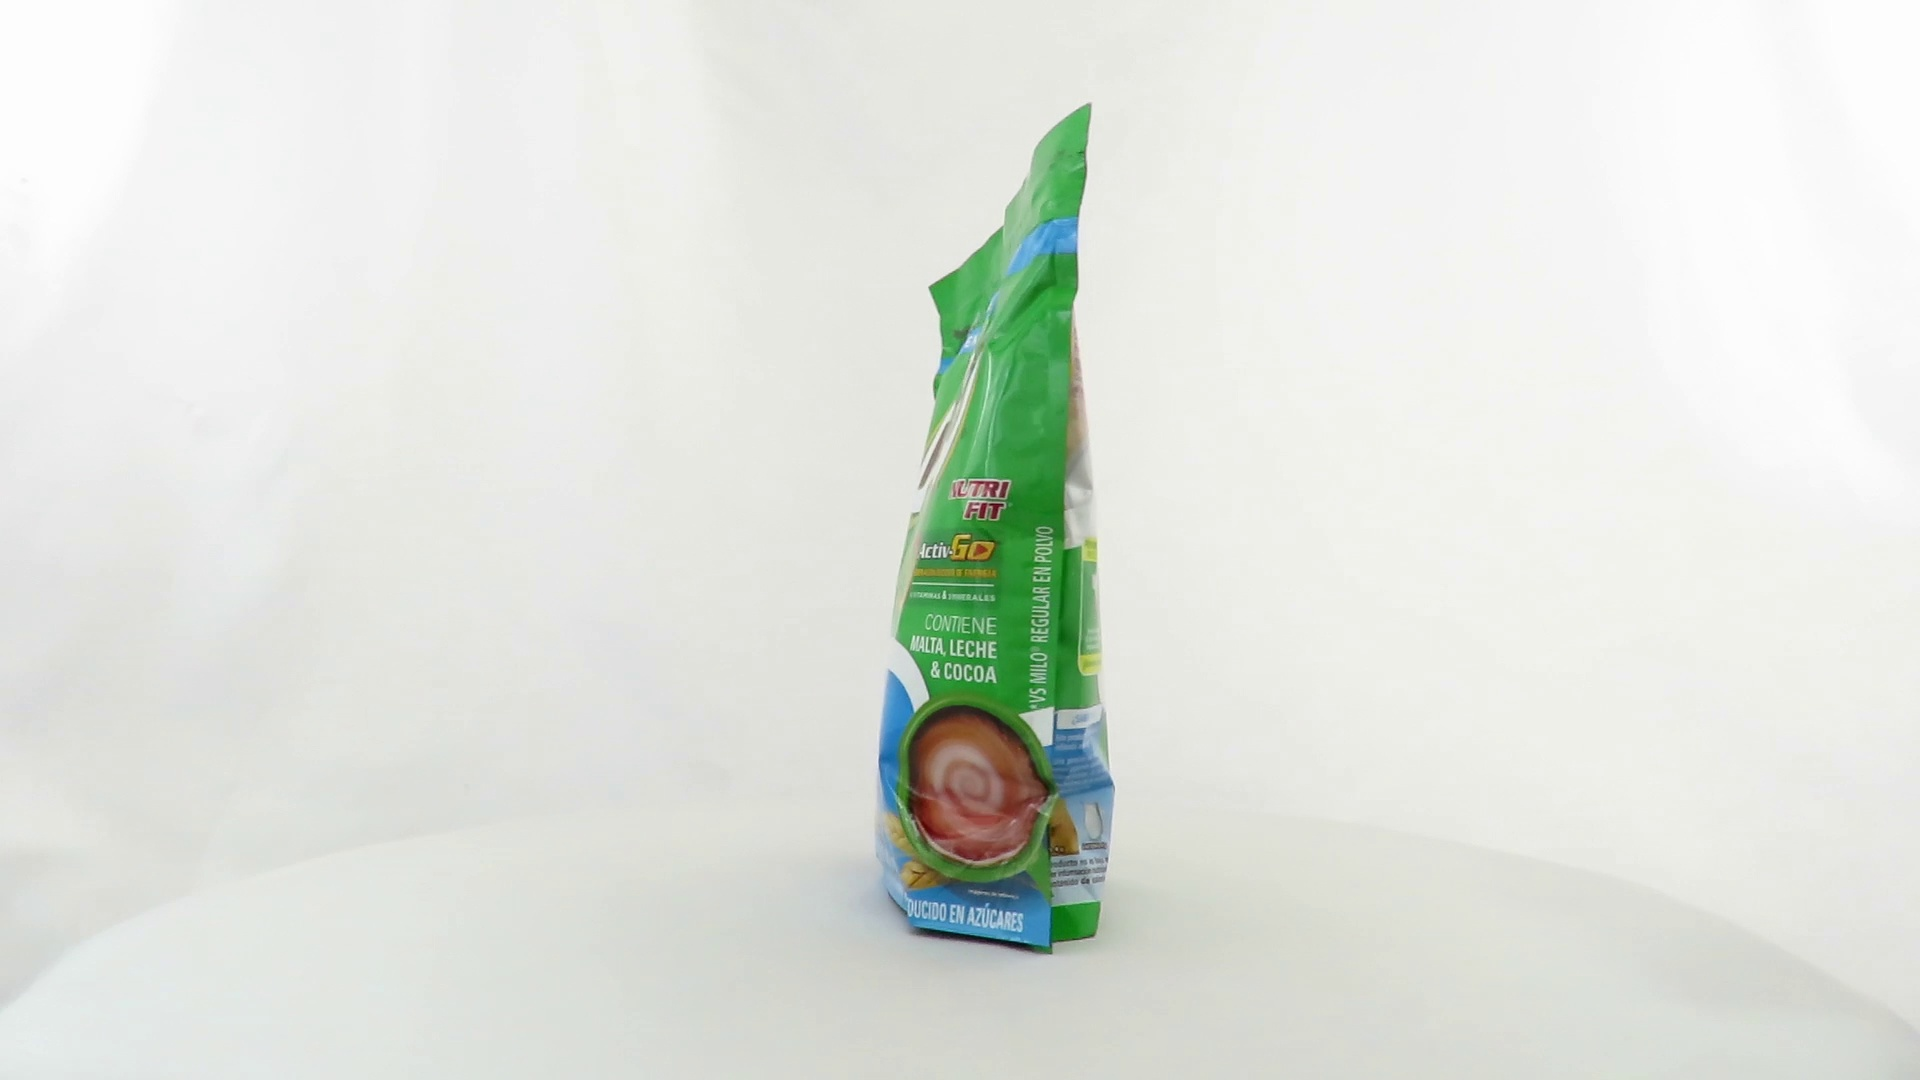COL0170205DYP50000: (873, 98, 1122, 961)
